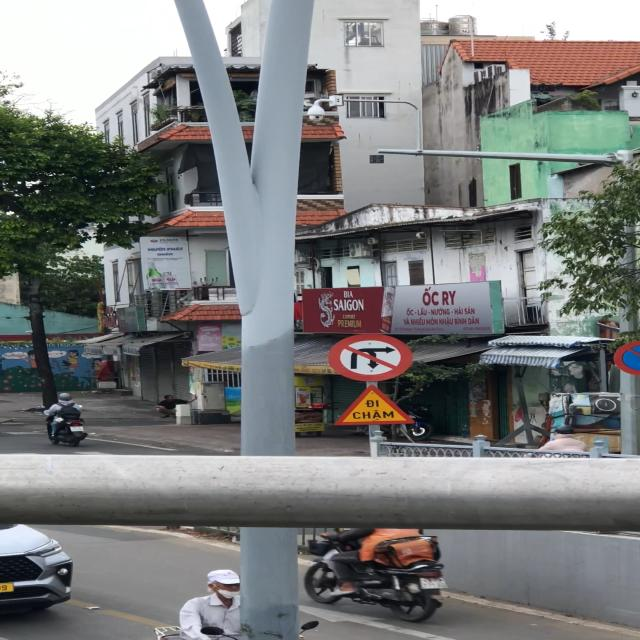Bien bao cam re phai va quay dau: (324, 332, 419, 384)
Bien bao di cham: (329, 382, 418, 429)
